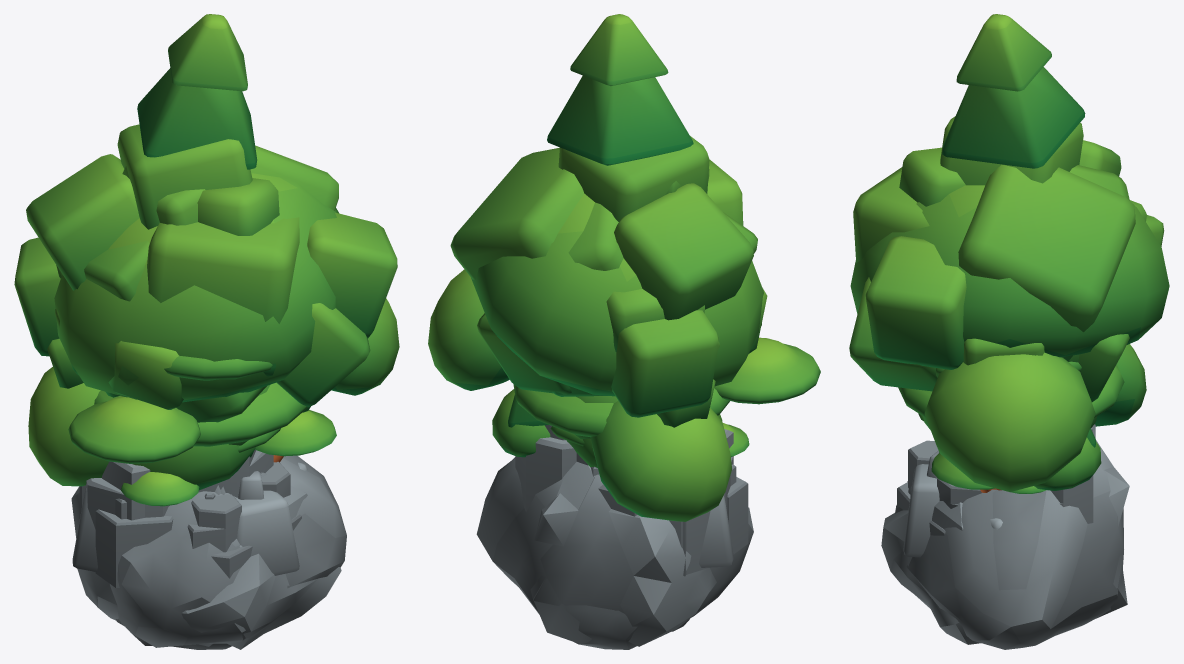
The model's file is nature.glb.
The picture shows the model from 3 angles, left to right: view 1: azimuth 30°, elevation 25°; view 2: azimuth 150°, elevation 25°; view 3: azimuth 270°, elevation 25°; orthographic projection. The views are drawn at different scales.
Visible parts, largest first — view 1: Tree_2_E_Color1, Tree_1_C_Color1, Rock_3_R_Color1, Tree_4_C_Color1, Tree_3_C_Color1, Rock_3_Q_Color1, Rock_1_J_Color1, Tree_3_B_Color1, Rock_2_E_Color1, Tree_2_D_Color1, Rock_1_M_Color1, Tree_1_A_Color1 (+3 smaller); view 2: Tree_2_E_Color1, Tree_1_C_Color1, Rock_3_Q_Color1, Tree_4_C_Color1, Rock_3_R_Color1, Tree_3_C_Color1, Rock_1_M_Color1, Tree_3_B_Color1, Tree_2_D_Color1, Tree_1_B_Color1, Rock_2_F_Color1, Rock_1_J_Color1 (+1 smaller); view 3: Tree_2_E_Color1, Tree_1_C_Color1, Rock_3_R_Color1, Tree_4_C_Color1, Rock_3_Q_Color1, Rock_2_E_Color1, Tree_1_B_Color1, Tree_3_B_Color1, Tree_3_C_Color1, Rock_1_M_Color1, Rock_1_J_Color1, Tree_2_D_Color1 (+1 smaller).
Part boxes in pixels (box(x1,y1,x2,y2)): Tree_2_E_Color1: box(14, 124, 397, 422); Tree_1_C_Color1: box(28, 173, 399, 486); Rock_3_R_Color1: box(110, 455, 346, 647); Tree_4_C_Color1: box(122, 14, 257, 178); Tree_3_C_Color1: box(68, 355, 336, 463); Rock_3_Q_Color1: box(71, 472, 341, 649); Rock_1_J_Color1: box(82, 461, 252, 578); Tree_3_B_Color1: box(94, 382, 306, 506); Rock_2_E_Color1: box(236, 471, 299, 575); Tree_2_D_Color1: box(56, 189, 205, 301); Rock_1_M_Color1: box(79, 486, 173, 587); Tree_1_A_Color1: box(132, 444, 255, 490); Tree_2_E_Color1: box(450, 136, 767, 417); Tree_1_C_Color1: box(428, 193, 763, 521); Rock_3_Q_Color1: box(530, 474, 716, 646); Tree_4_C_Color1: box(508, 14, 693, 427); Rock_3_R_Color1: box(476, 457, 753, 649); Tree_3_C_Color1: box(714, 337, 820, 404); Rock_1_M_Color1: box(515, 425, 748, 576); Tree_3_B_Color1: box(513, 384, 749, 456); Tree_2_D_Color1: box(552, 169, 757, 396); Tree_1_B_Color1: box(492, 389, 618, 457); Rock_2_F_Color1: box(699, 496, 733, 567); Rock_1_J_Color1: box(669, 429, 733, 574); Tree_2_E_Color1: box(849, 116, 1164, 402); Tree_1_C_Color1: box(850, 185, 1169, 491); Rock_3_R_Color1: box(895, 441, 1123, 649); Tree_4_C_Color1: box(942, 14, 1095, 447); Rock_3_Q_Color1: box(881, 440, 1129, 644); Rock_2_E_Color1: box(903, 451, 939, 557); Tree_1_B_Color1: box(1034, 437, 1101, 490); Tree_3_B_Color1: box(898, 364, 1124, 421); Tree_3_C_Color1: box(931, 361, 1081, 493); Rock_1_M_Color1: box(1051, 431, 1093, 523); Rock_1_J_Color1: box(897, 440, 938, 510); Tree_2_D_Color1: box(936, 165, 1129, 377).
Bounding box in the file's own units: 7.18 × 12.16 × 5.77.
1 material, 1 textured.
